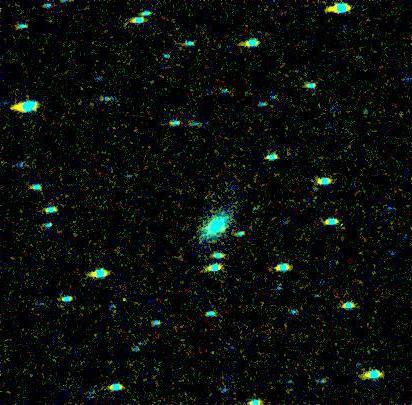star: (210, 213, 240, 243)
